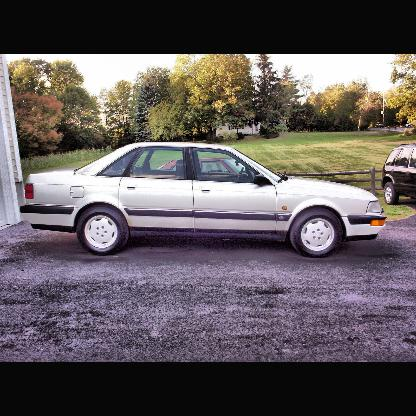Audi V8 Sedan 1994: (21, 141, 388, 258)
